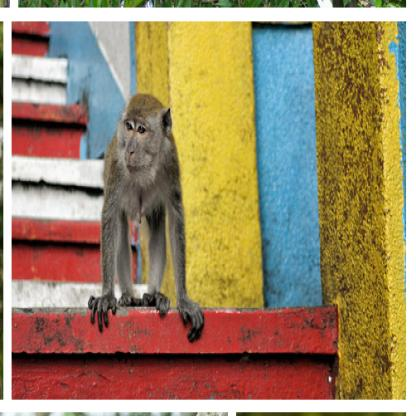monkey: (86, 89, 204, 341)
